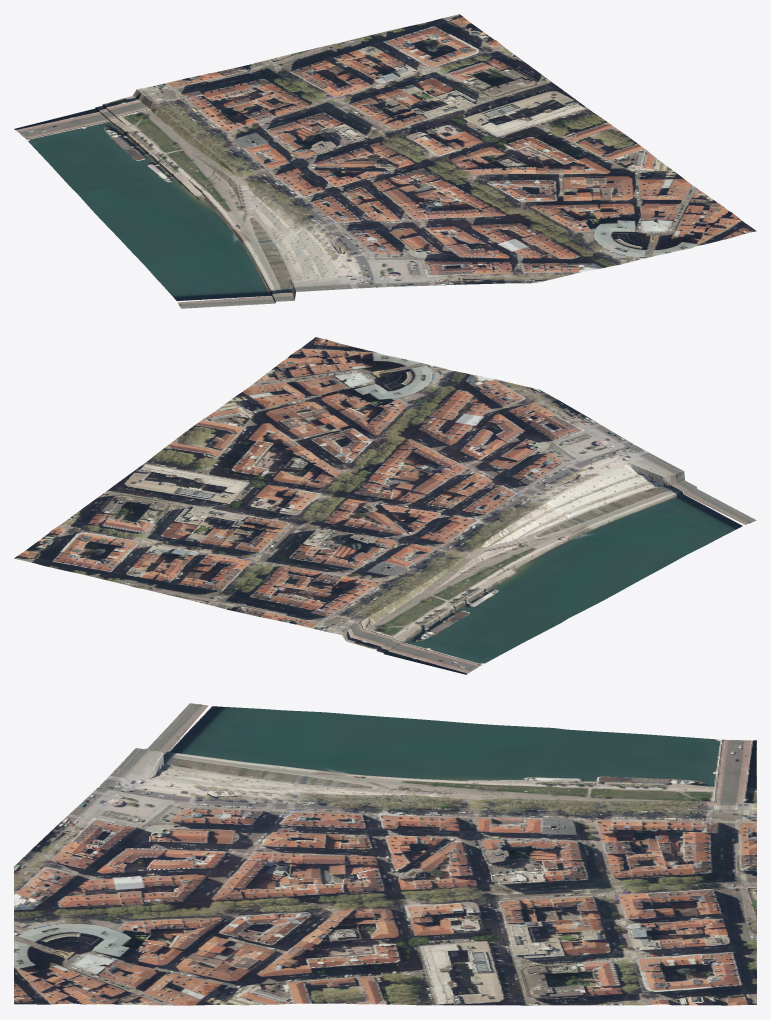
File: gml_2c9c7a15-afcf-44d3-a4fa-e57b6234043d.gltf
3 renders of one model, top to bottom at view 1: azimuth 30°, elevation 25°; view 2: azimuth 150°, elevation 25°; view 3: azimuth 270°, elevation 25°, orthographic. The views are drawn at different scales.
Parts seen in each view (by area): view 1: Z_UP; view 2: Z_UP; view 3: Z_UP.
Boxes of the visible parts, x1,y1,x2,y2 form: Z_UP: (14,14,756,308); Z_UP: (14,337,756,674); Z_UP: (14,703,756,1005).
Bounding box in the file's own units: 491 × 10.56 × 500.
Materials: 1 (1 with a texture image).
